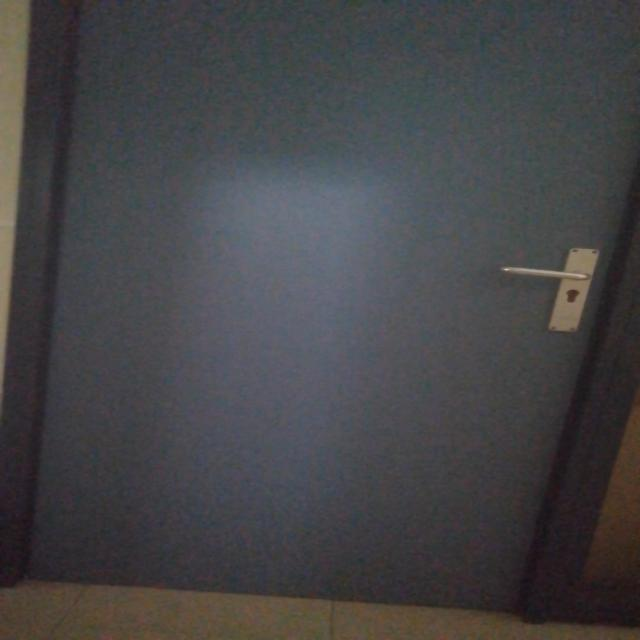door_handle: (493, 263, 594, 283)
